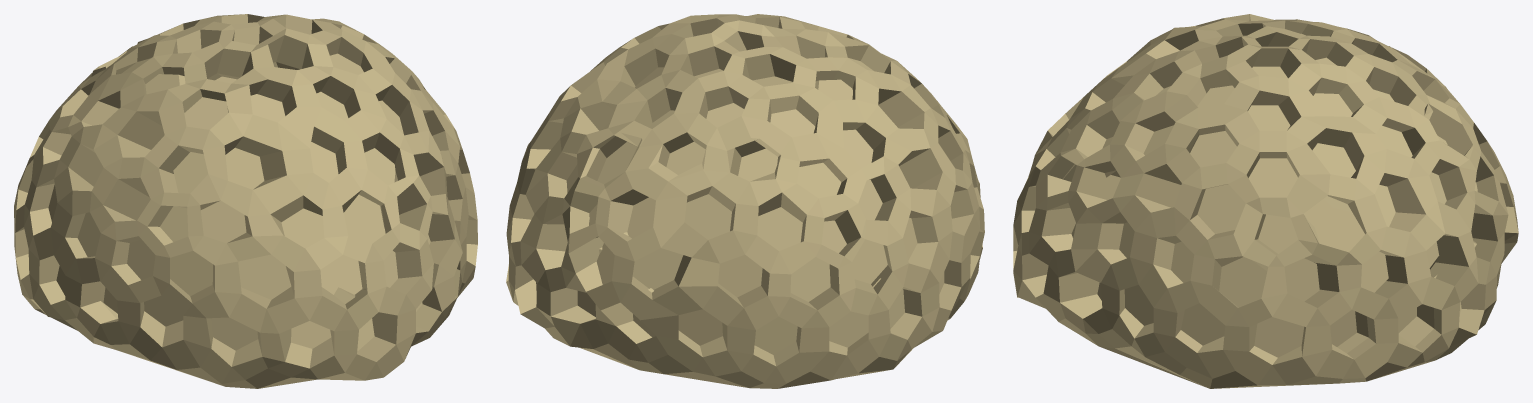
Rendered from Montastraea.fbx.
3 views of the same model, side by side, from view 1: azimuth 30°, elevation 25°; view 2: azimuth 150°, elevation 25°; view 3: azimuth 270°, elevation 25° (orthographic).
Visible parts, largest first — view 1: Sphere; view 2: Sphere; view 3: Sphere.
Part boxes in pixels (x1,y1,x2,y2): Sphere: (14,14,477,388); Sphere: (506,14,984,388); Sphere: (1013,14,1518,388).
Bounding box in the file's own units: 266 × 167 × 285.
